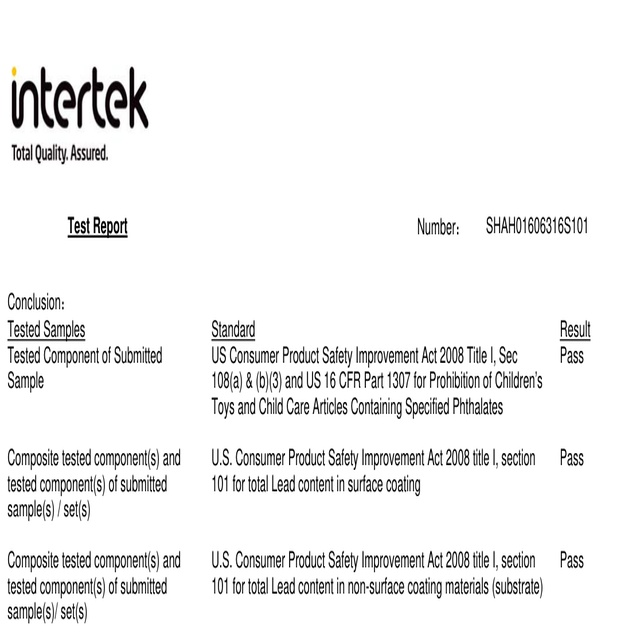intertek: (6, 67, 154, 132)
